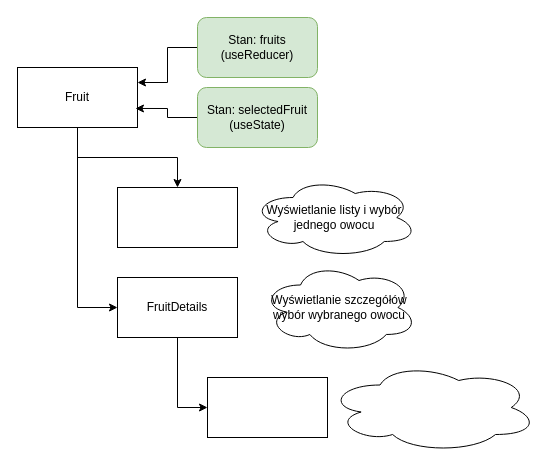
Some shapes in this 555 by 470 pixel diagram are drawn without their labels. Each missing label, with the centre of its shape:
FruitForm: [267,407]
FruitList: [177,217]
Modyfikacja wybrnego owocu lub dodanie nowego: [432,407]
